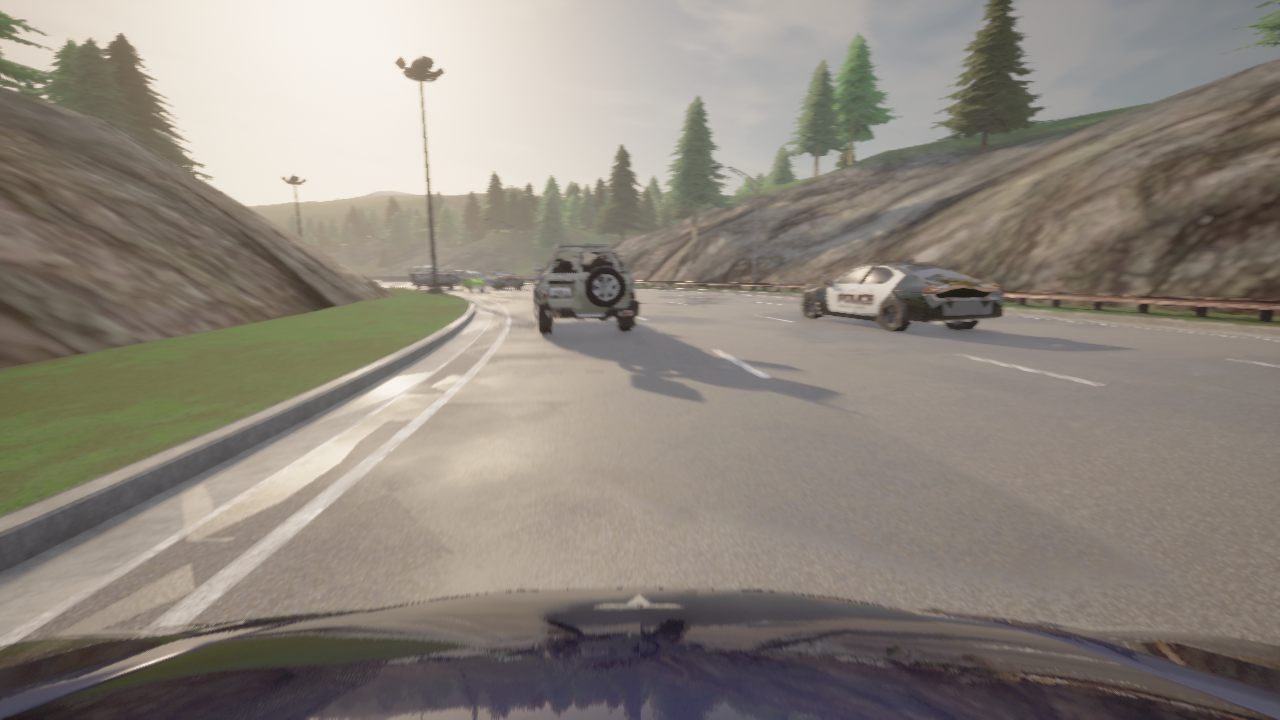cyclist: (0, 588, 1279, 719), (801, 258, 1003, 332), (534, 244, 638, 334), (483, 269, 523, 289), (415, 270, 454, 288), (409, 265, 438, 285), (459, 271, 484, 292), (451, 270, 469, 285), (482, 270, 494, 275)
